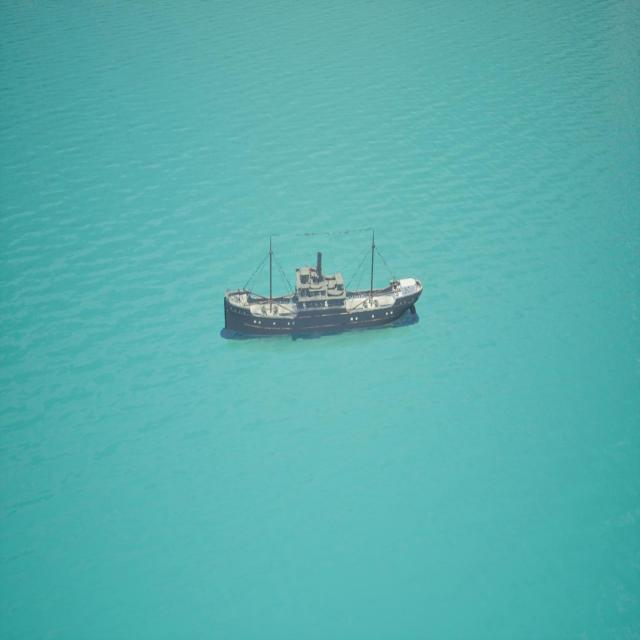fishing ship: (225, 233, 421, 341)
